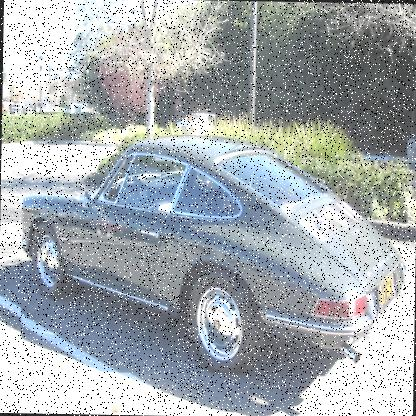Car: (19, 132, 408, 378)
